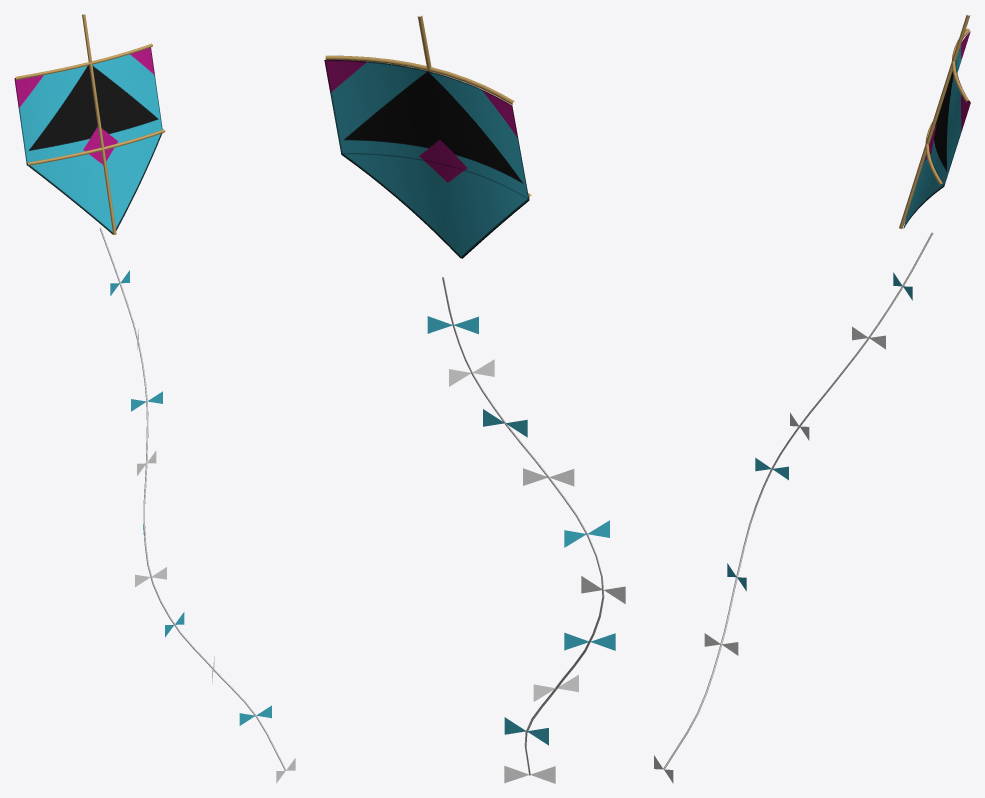
File: quadrada-3-triangulo.glb
3 renders of one model, left to right at view 1: azimuth 30°, elevation 25°; view 2: azimuth 150°, elevation 25°; view 3: azimuth 270°, elevation 25°, orthographic. The views are drawn at different scales.
Visible parts, largest first — view 1: quadrada-3-triangulo; view 2: quadrada-3-triangulo; view 3: quadrada-3-triangulo.
Part boxes in pixels (x1=…): quadrada-3-triangulo: x1=14, y1=14, x2=295, y2=783; quadrada-3-triangulo: x1=324, y1=15, x2=625, y2=783; quadrada-3-triangulo: x1=654, y1=15, x2=970, y2=783.
Size of the model in its own units: 1.16 by 5.21 by 2.05.
5 materials, 1 textured.
